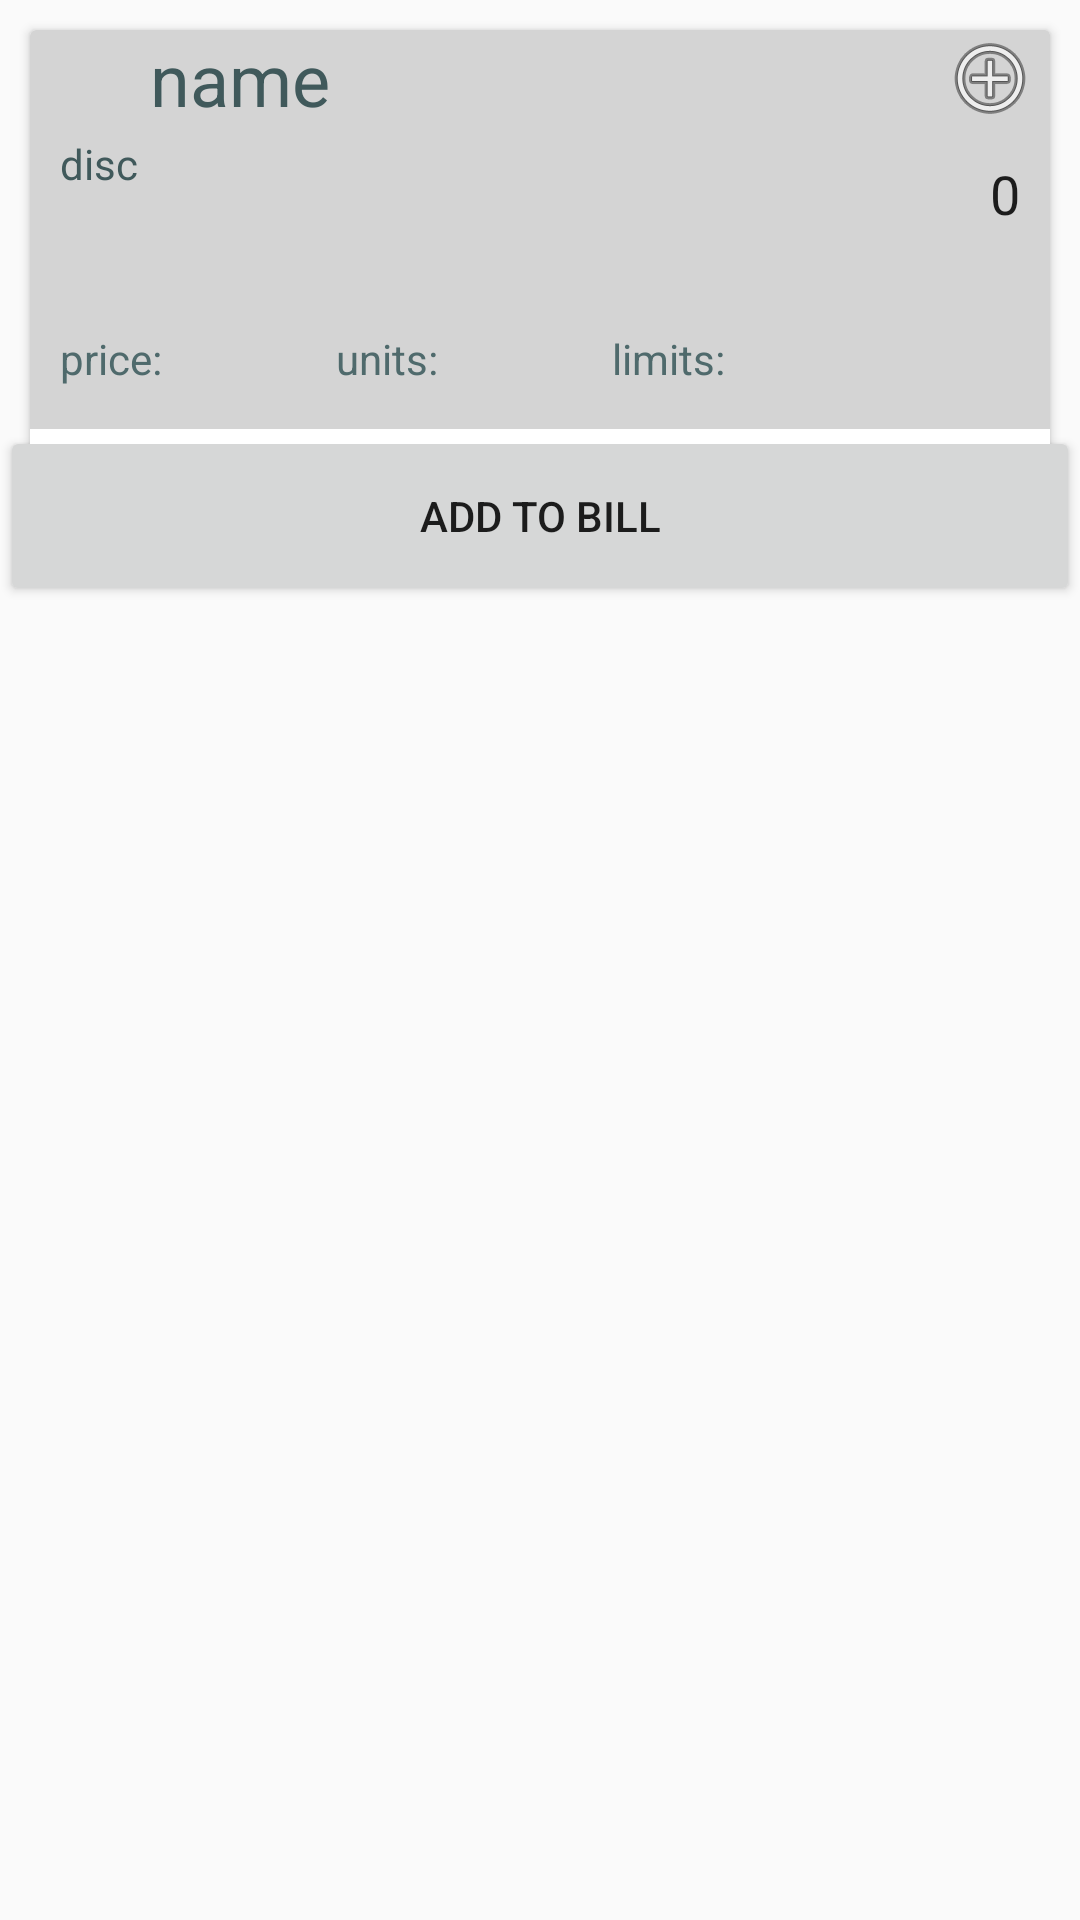

Named icons in this screenshot (1080×1920) and their bounding boxes, box=[x1, y1, x2, y2]:
add: box=[954, 43, 1026, 114]
